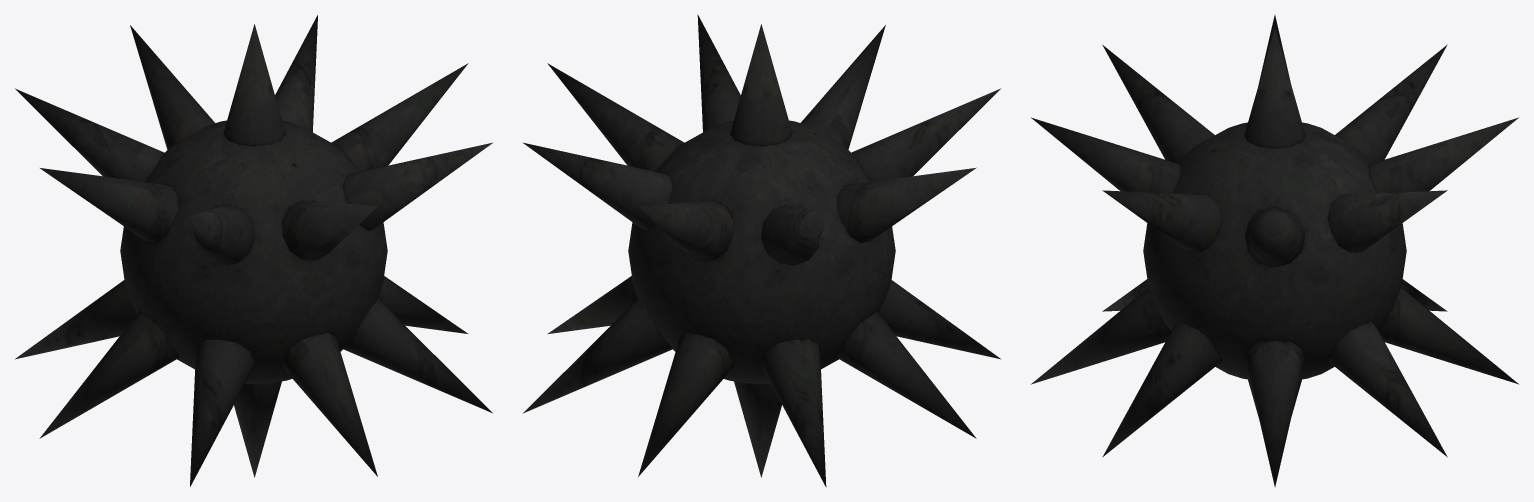
Rendered from SpikeBall_Small.fbx.
3 renders of one model, left to right at view 1: azimuth 30°, elevation 25°; view 2: azimuth 150°, elevation 25°; view 3: azimuth 270°, elevation 25°, orthographic.
Visible parts, largest first — view 1: SpikeBall_Small; view 2: SpikeBall_Small; view 3: SpikeBall_Small.
Boxes of the visible parts, x1,y1,x2,y2 form: SpikeBall_Small: (15,15,492,486); SpikeBall_Small: (523,14,1000,487); SpikeBall_Small: (1031,14,1518,487).
Size of the model in its own units: 204 by 206 by 204.
